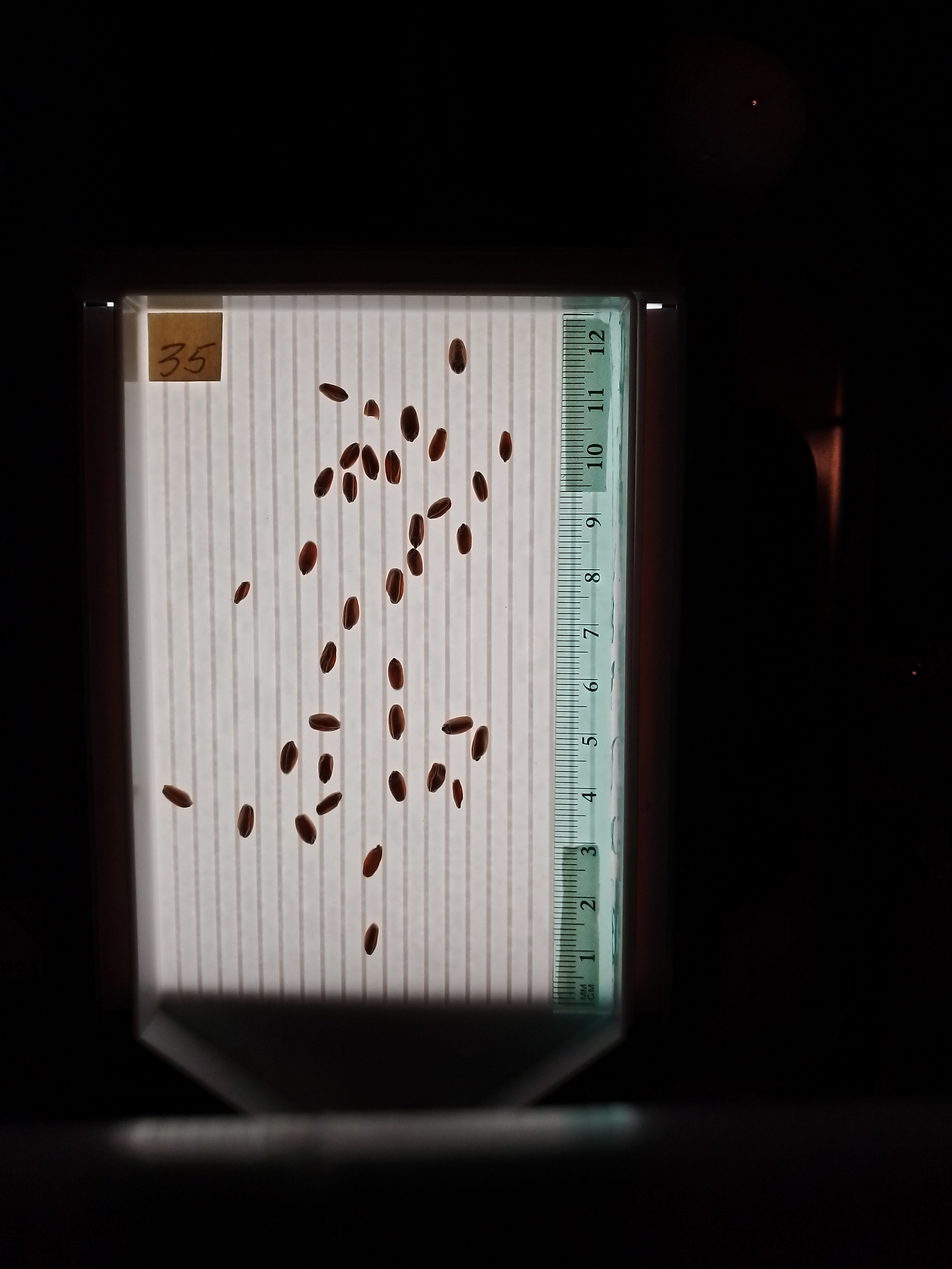seed mask: (162, 785, 192, 808), (362, 846, 383, 877), (401, 406, 419, 442), (295, 814, 316, 844), (309, 713, 340, 733), (449, 339, 467, 373), (386, 569, 404, 603), (443, 715, 473, 735), (429, 428, 447, 461), (362, 446, 380, 479), (314, 468, 334, 497), (426, 763, 446, 792), (388, 705, 405, 739), (472, 726, 489, 760), (299, 542, 317, 574), (388, 772, 407, 802), (280, 742, 298, 773), (237, 805, 254, 837), (385, 451, 401, 484), (343, 597, 359, 629), (320, 643, 337, 673), (428, 497, 451, 519), (317, 793, 341, 814), (340, 444, 360, 469), (320, 384, 347, 402), (388, 659, 404, 689), (409, 516, 424, 547), (364, 924, 379, 955), (318, 754, 334, 783), (473, 472, 488, 502), (457, 525, 472, 554), (407, 549, 423, 575), (499, 432, 513, 461), (343, 474, 357, 503), (234, 582, 250, 603), (453, 780, 463, 806)
